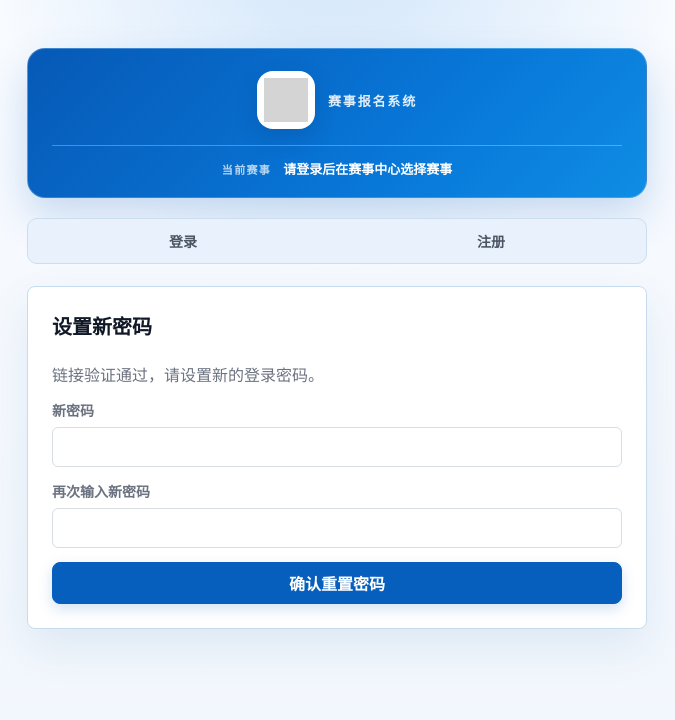
AuthPage › opens a valid email reset link and submits the new password
Expected: the form is shown, [27,286,647,629]
Type "NewPassword123!" into the password field with test id "reset-new-password" at (337, 447), box [52,427,622,467]
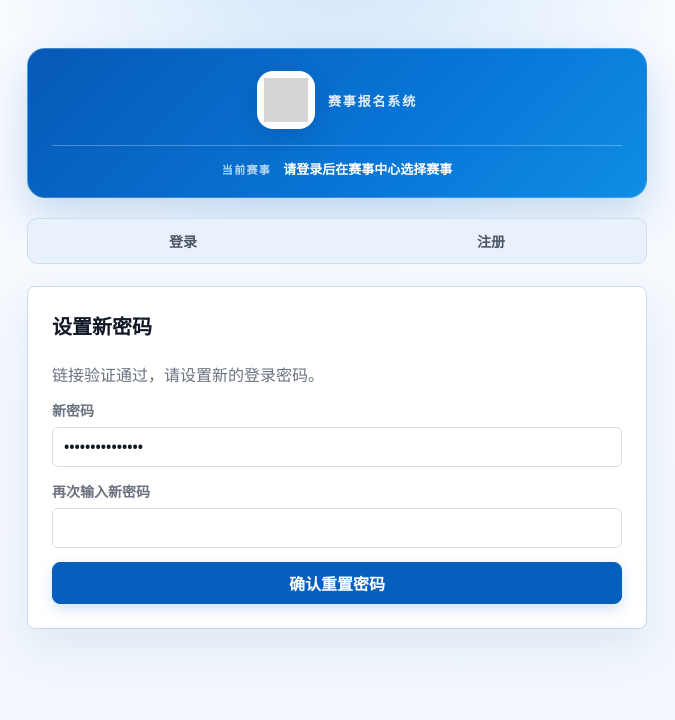
Type "NewPassword123!" into the password field with test id "reset-confirm-password" at (337, 528), box [52,508,622,548]
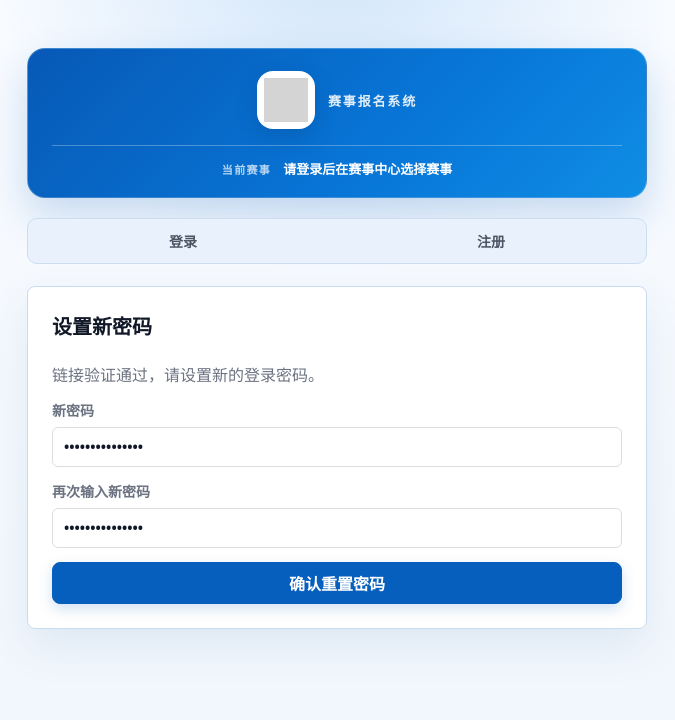
Submit the form, box [27,286,647,629]
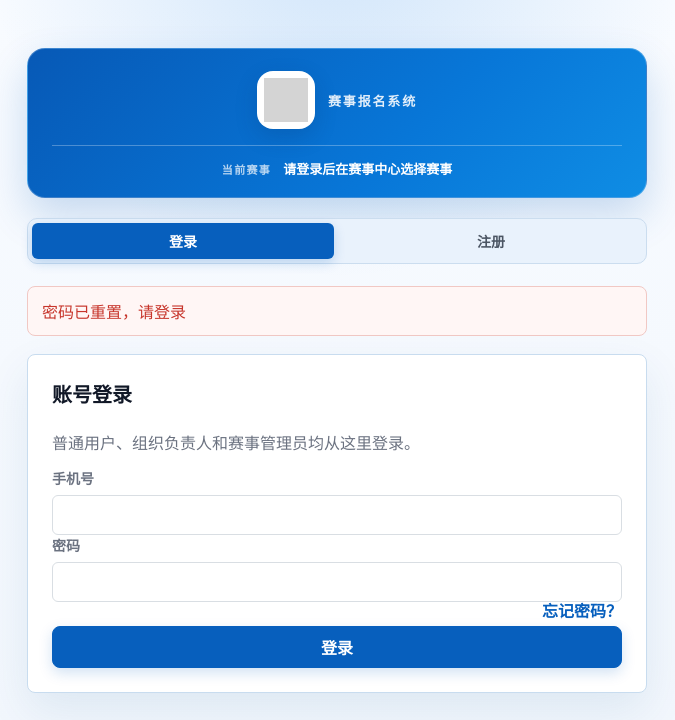
Expected: the form is shown, [52,468,622,668]
Expected: the text "密码已重置，请登录" is shown, [27,286,647,336]
